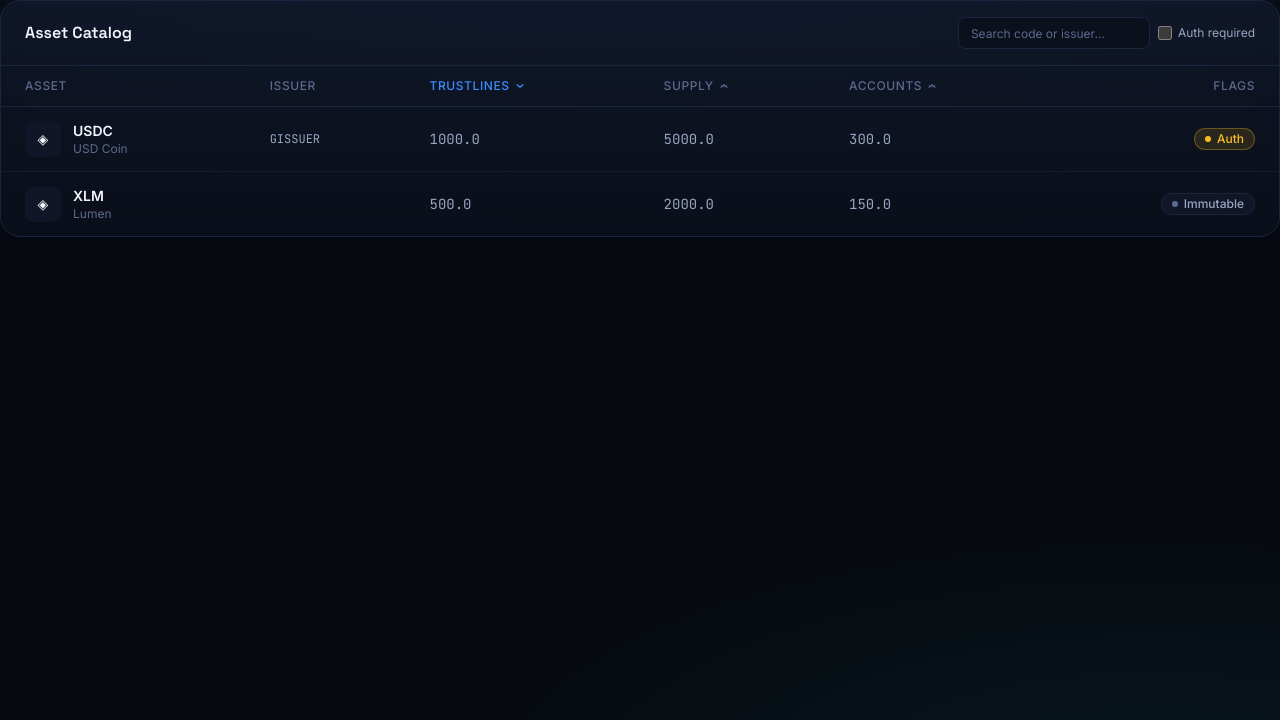
Test: AssetBrowser › shows empty state when nothing matches
Type "zzz" into the field named "Search assets" at (1054, 33), box [958, 17, 1150, 49]
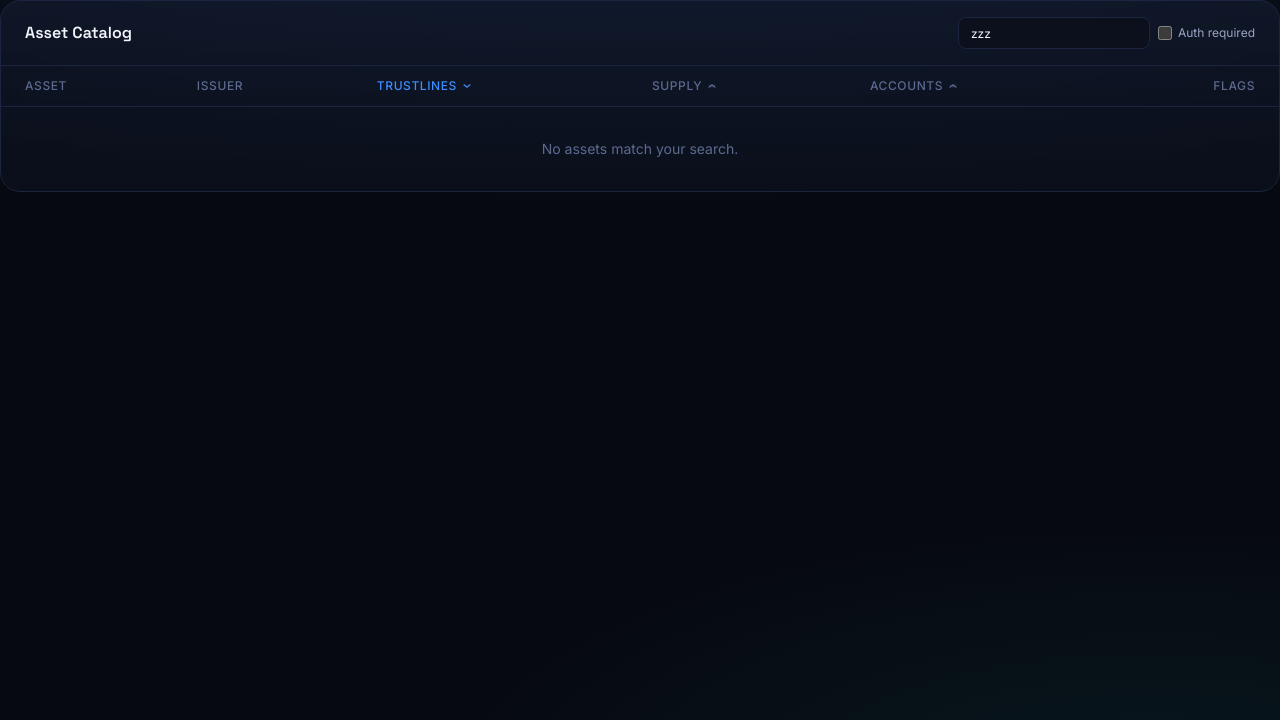
Expected: the text "No assets match your search." is shown, [1, 106, 1279, 191]
